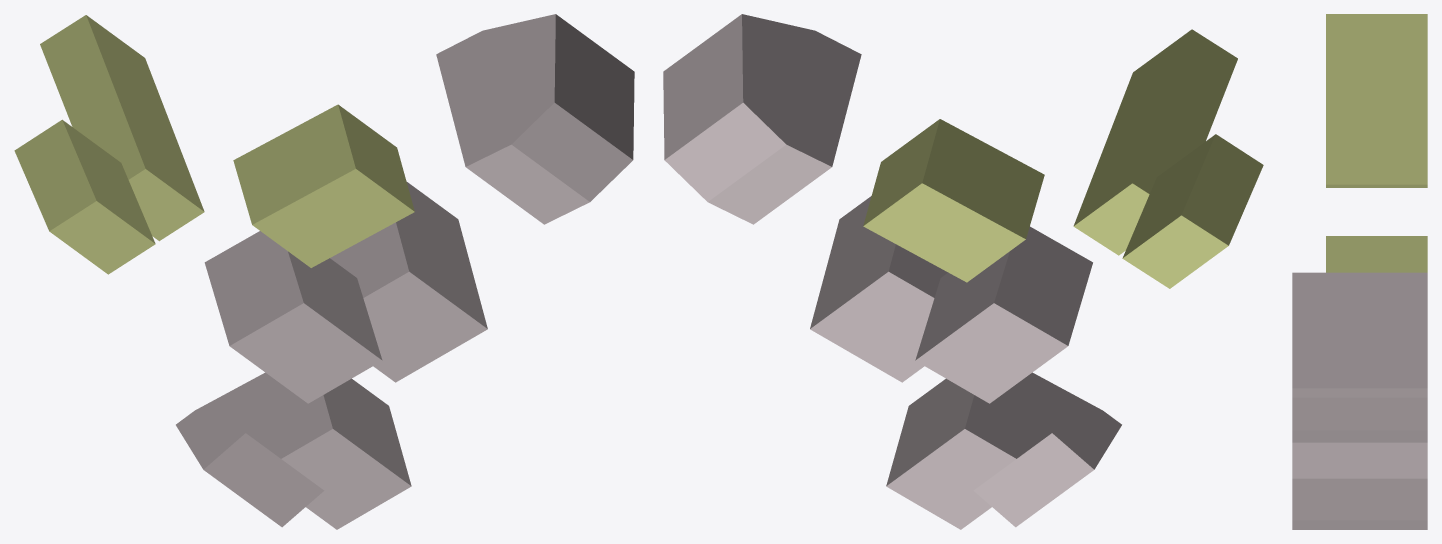
3 renders of one model, left to right at view 1: azimuth 30°, elevation 25°; view 2: azimuth 150°, elevation 25°; view 3: azimuth 270°, elevation 25°, orthographic. The views are drawn at different scales.
Visible parts, largest first — view 1: 0_1_2_0_3_3_0_2_3; view 2: 0_1_2_0_3_3_0_2_3; view 3: 0_1_2_0_3_3_0_2_3.
Boxes of the visible parts, left/top/right/bottom form: 0_1_2_0_3_3_0_2_3: left=14, top=14, right=634, bottom=529; 0_1_2_0_3_3_0_2_3: left=663, top=14, right=1263, bottom=529; 0_1_2_0_3_3_0_2_3: left=1292, top=14, right=1427, bottom=529.
Bounding box in the file's own units: 47.64 × 42 × 12.
